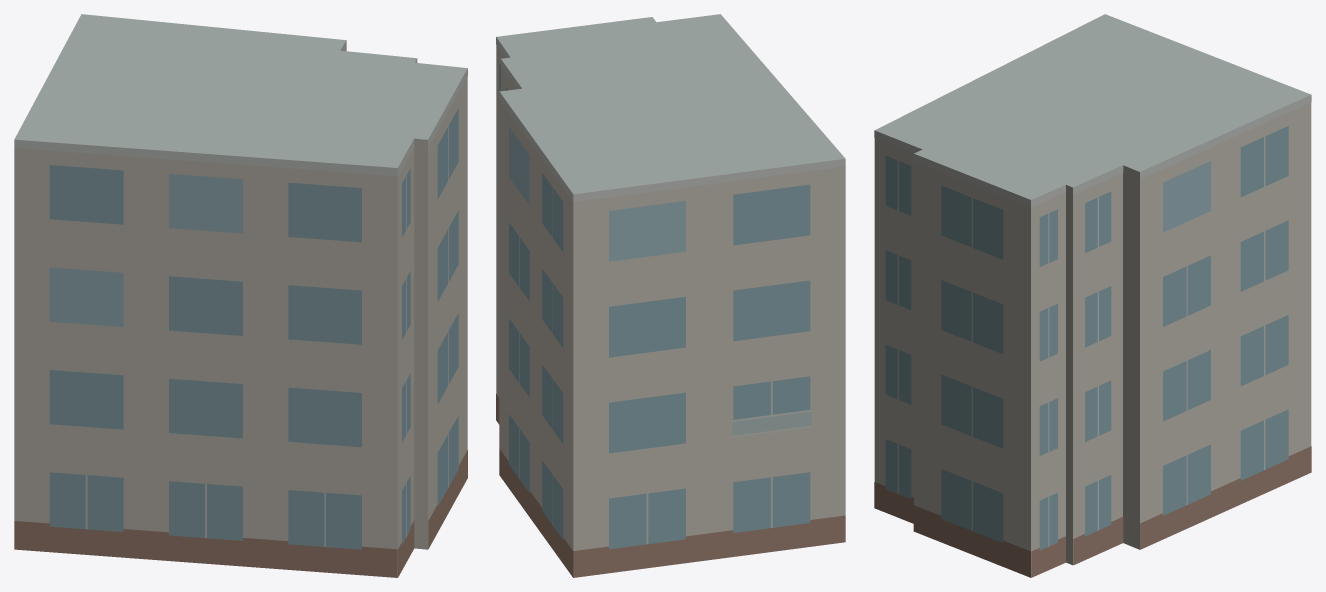
Rendered from survey-upis-32645052.glb.
3 views of the same model, side by side, from view 1: azimuth 30°, elevation 25°; view 2: azimuth 150°, elevation 25°; view 3: azimuth 270°, elevation 25° (orthographic). The views are drawn at different scales.
Parts seen in each view (by area): view 1: survey-upis-32645052.tmp; view 2: survey-upis-32645052.tmp; view 3: survey-upis-32645052.tmp.
Part boxes in pixels (left/top/right/bottom): survey-upis-32645052.tmp: left=14, top=14, right=467, bottom=577; survey-upis-32645052.tmp: left=496, top=14, right=845, bottom=577; survey-upis-32645052.tmp: left=874, top=14, right=1311, bottom=577.
Bounding box in the file's own units: 12.73 × 12.05 × 12.63.
